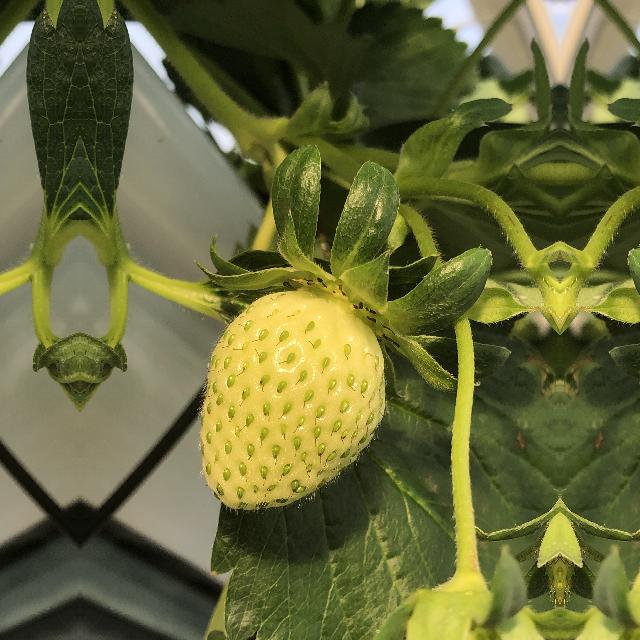Health_25: (187, 282, 397, 516)
